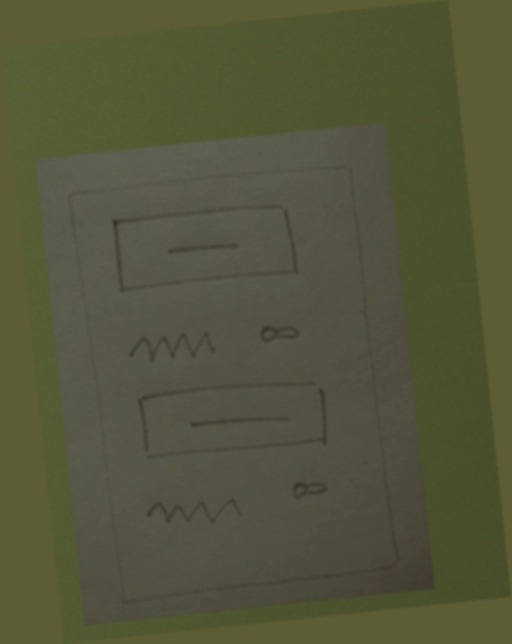button: (104, 193, 306, 302), (129, 369, 339, 471)
switch: (253, 316, 310, 355), (289, 471, 334, 507)
text: (136, 484, 250, 545), (120, 323, 221, 376)
